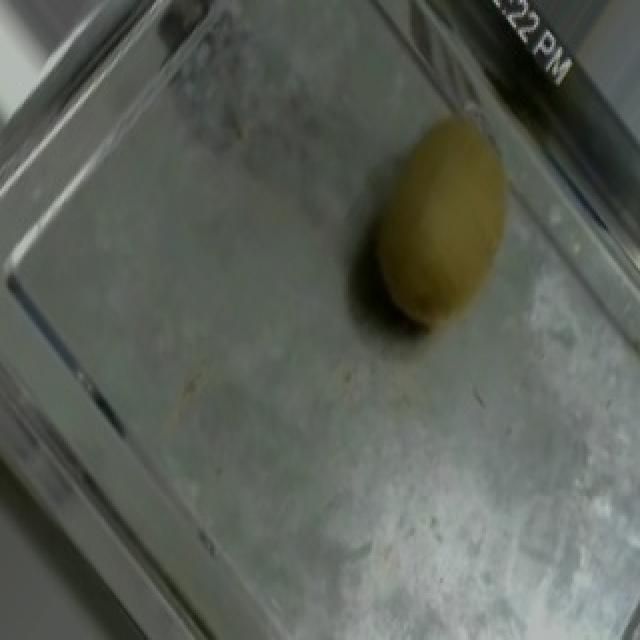Fruit: (312, 90, 554, 358)
